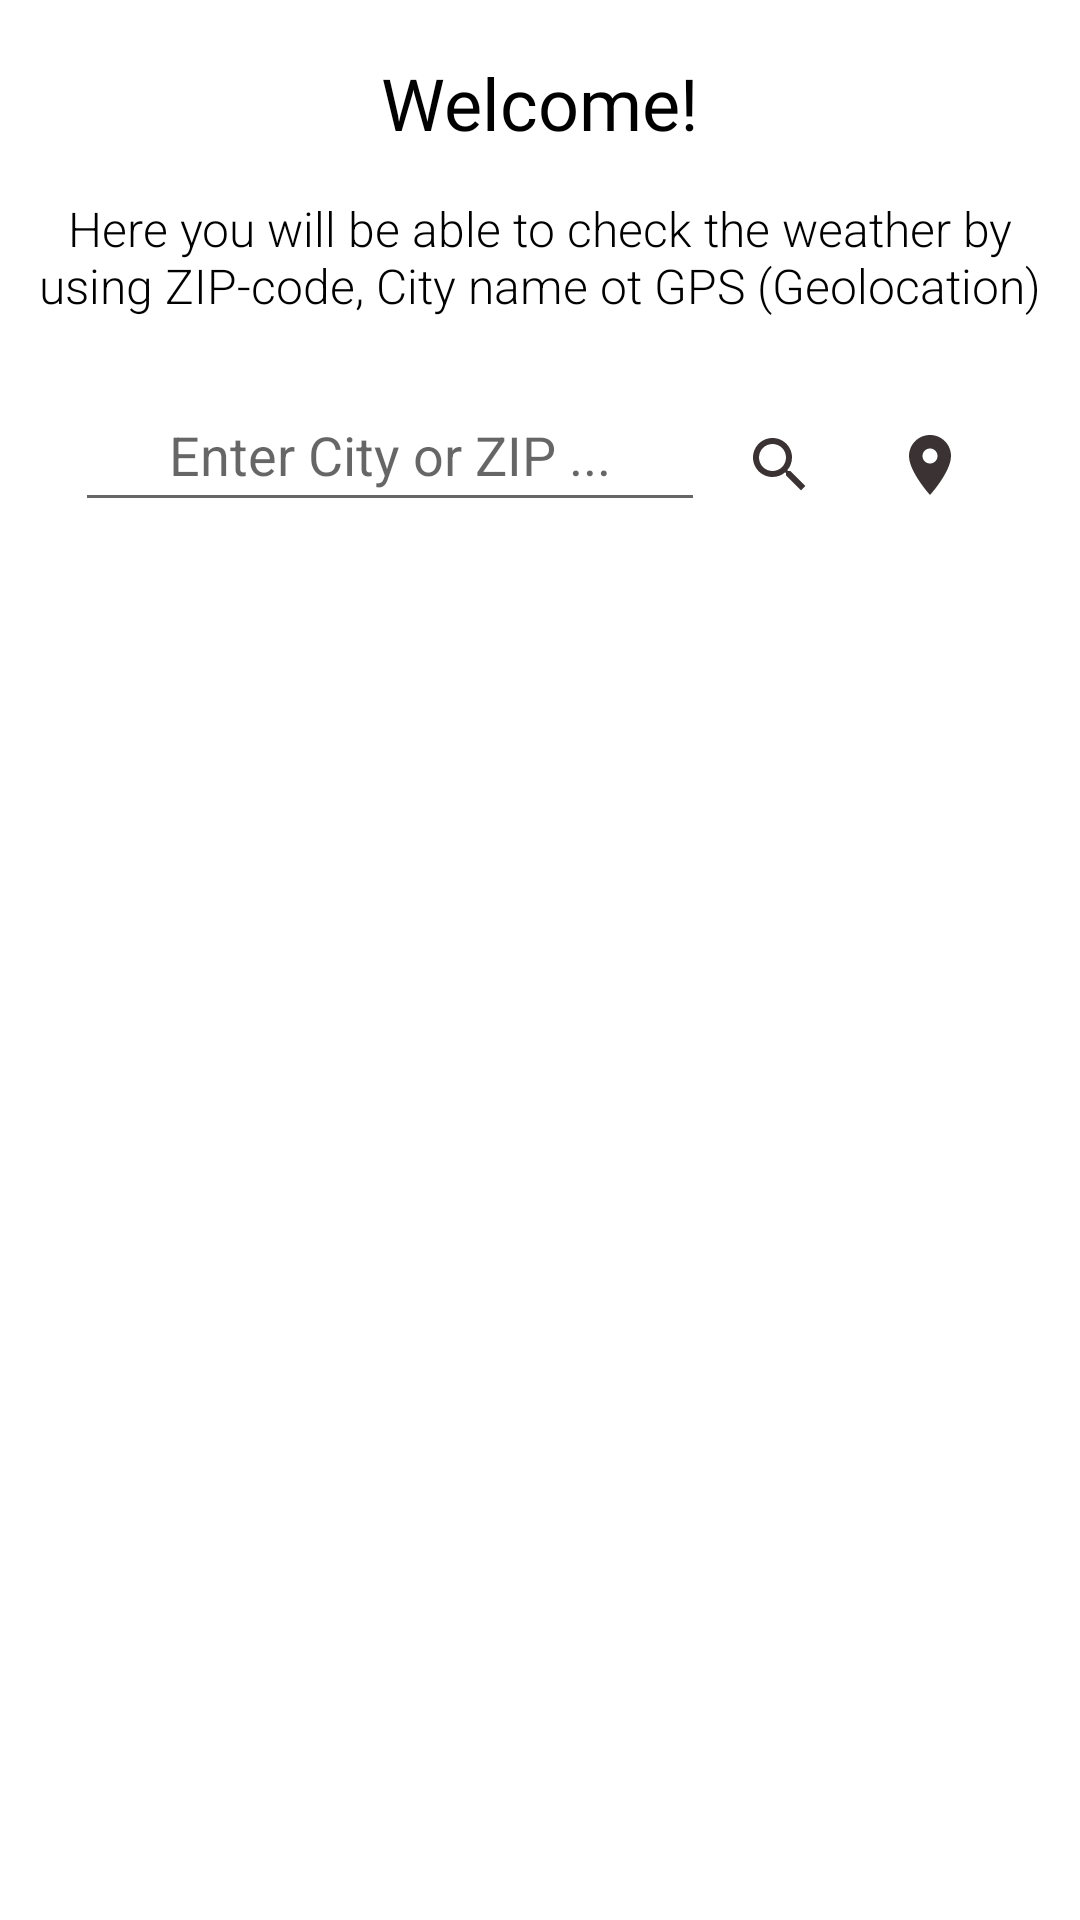

Named icons in this screenshot (1080 x 1920) and their centers, [x,y]:
search: [779,464]
